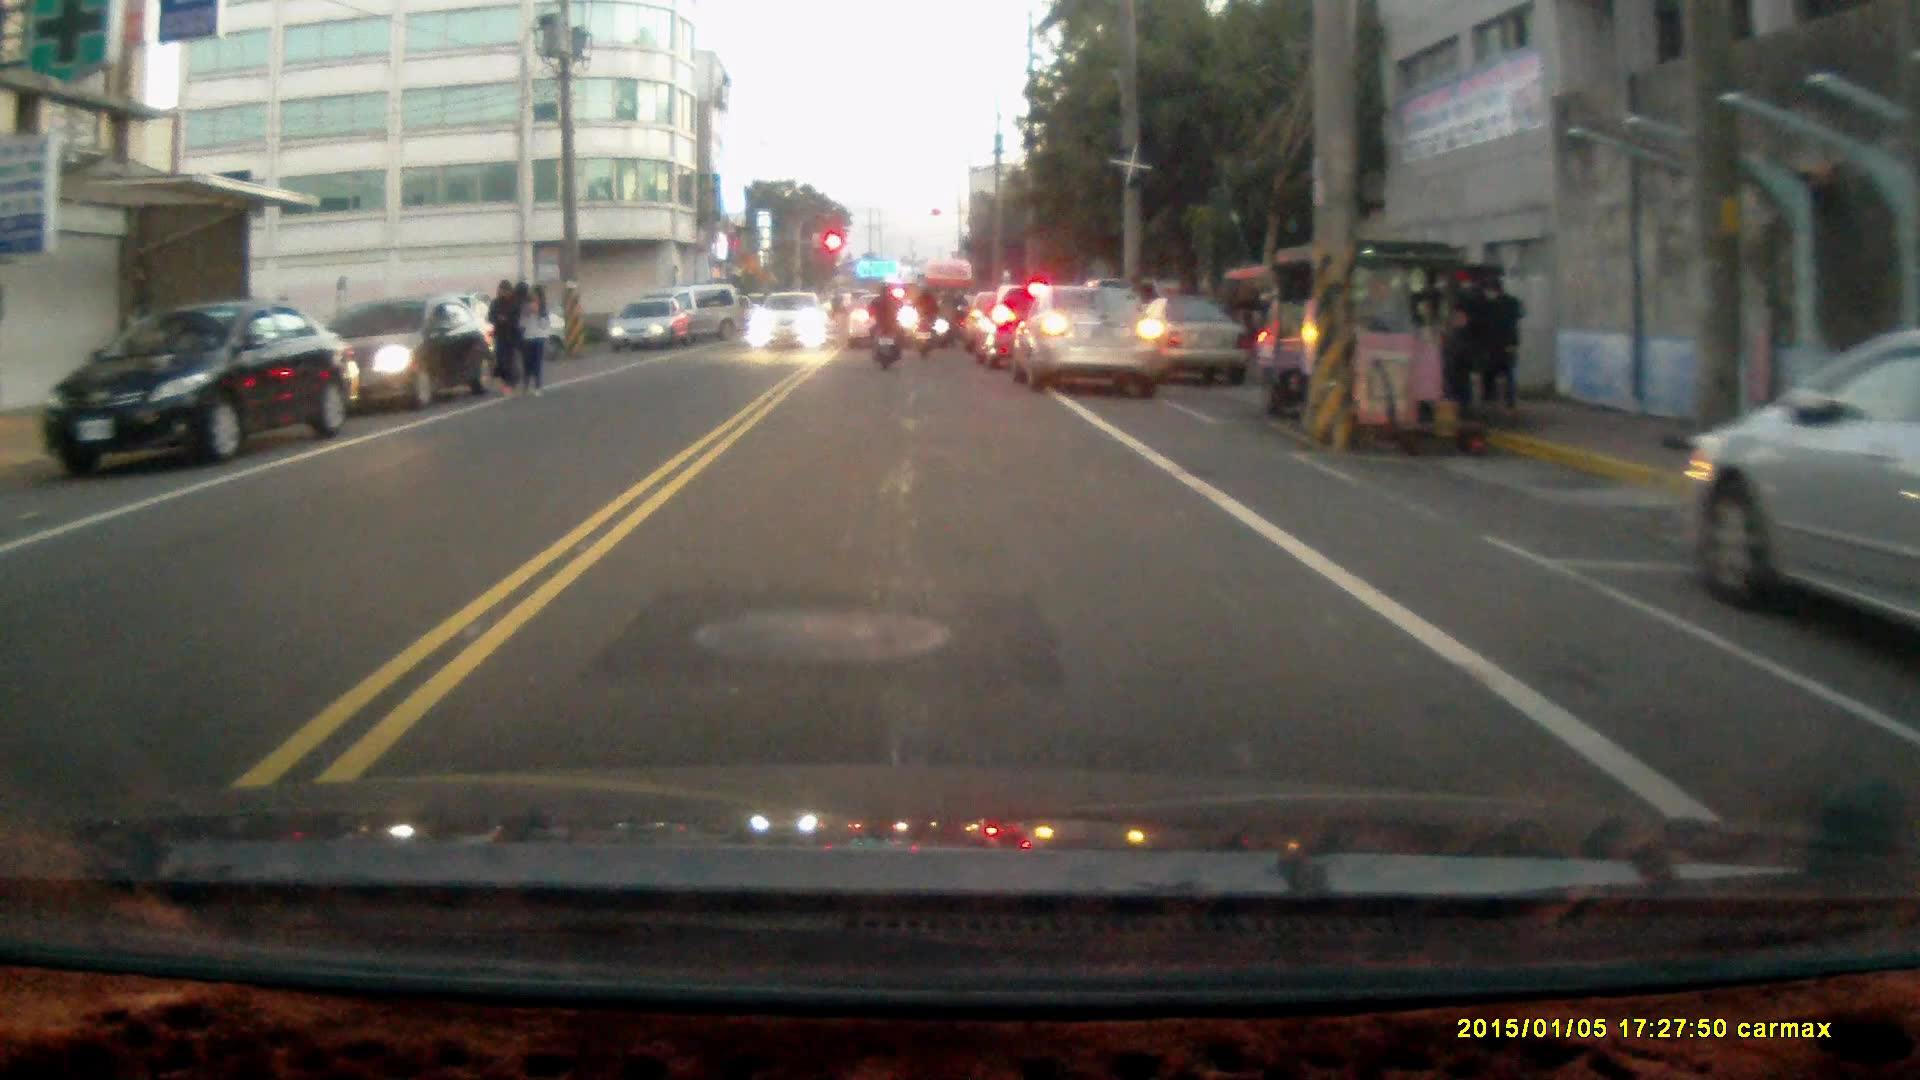pedestrian: (1476, 280, 1526, 422), (484, 278, 524, 400), (520, 283, 550, 400)
rider: (866, 282, 903, 373), (907, 280, 939, 361)
vehicle: (1681, 357, 1920, 663), (51, 303, 354, 478), (1247, 244, 1508, 444), (324, 298, 499, 420), (1017, 287, 1165, 401), (751, 295, 834, 357), (612, 301, 695, 356), (848, 295, 925, 355)
